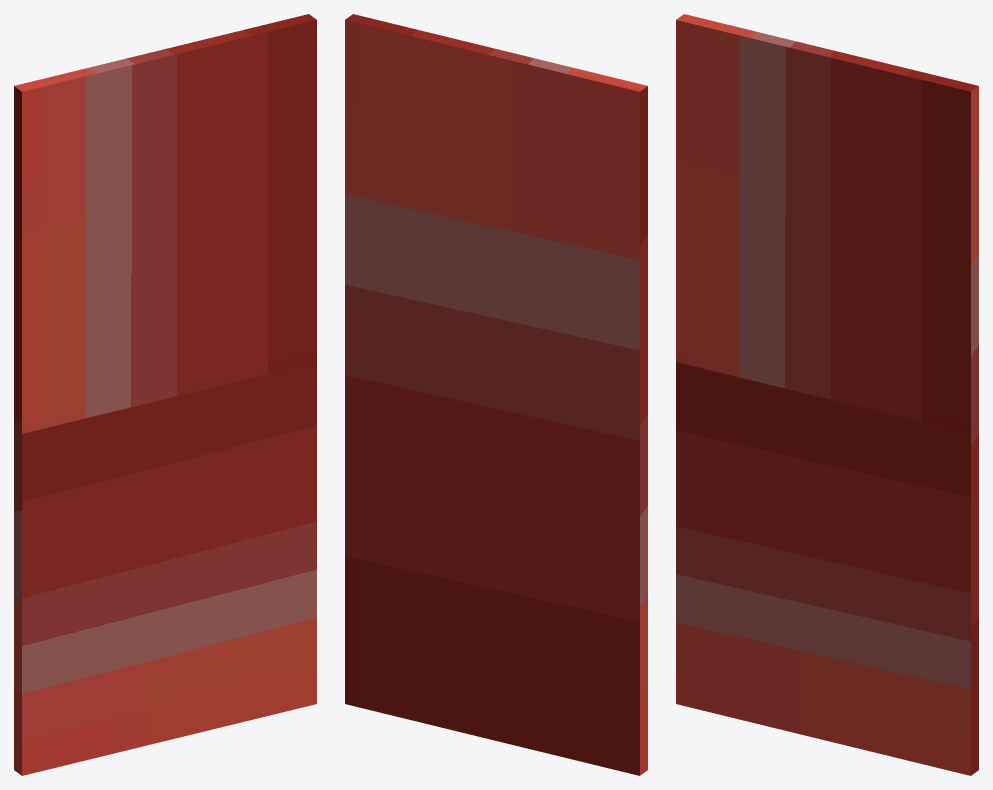
The model's file is 155_rooftileVar2.gltf.
The picture shows the model from 3 angles, left to right: view 1: azimuth 30°, elevation 25°; view 2: azimuth 150°, elevation 25°; view 3: azimuth 330°, elevation 25°; orthographic projection.
Visible parts, largest first — view 1: rooftileVar2; view 2: rooftileVar2; view 3: rooftileVar2.
Part boxes in pixels (<box>): rooftileVar2: <box>14,14,316,775</box>; rooftileVar2: <box>345,14,647,775</box>; rooftileVar2: <box>676,14,978,775</box>.
Bounding box in the file's own units: 8.41 × 18.63 × 0.3991.
1 material, 1 textured.
